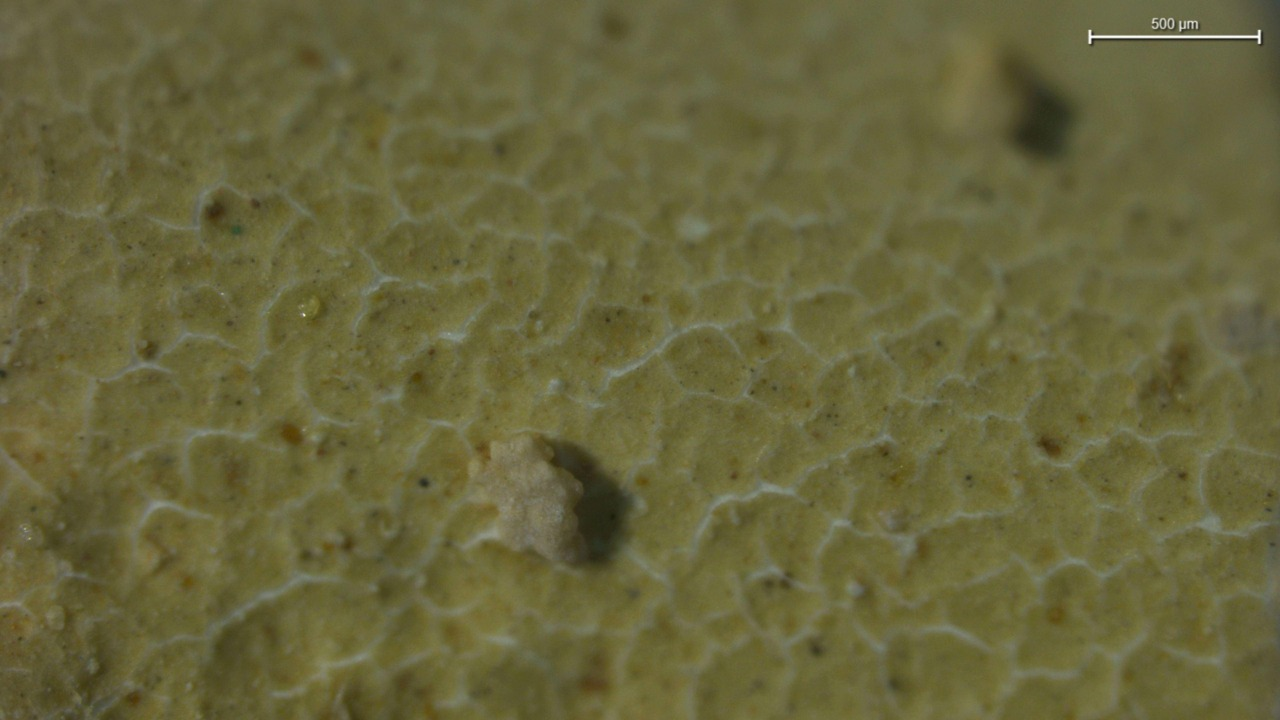microplastic_fragment: (476, 433, 586, 563)
